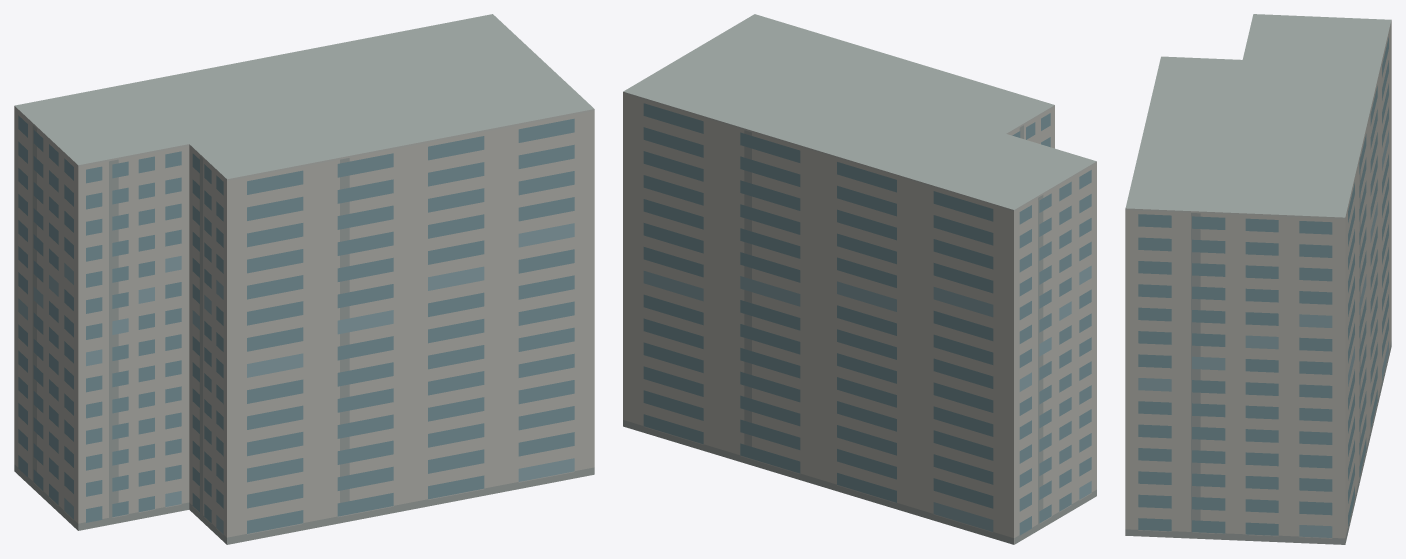
File: residential-4f8b7eb6-04c3-42ab-af9c-75f5c84cab09.glb
The picture shows the model from 3 angles, left to right: view 1: azimuth 30°, elevation 25°; view 2: azimuth 150°, elevation 25°; view 3: azimuth 270°, elevation 25°; orthographic projection. The views are drawn at different scales.
Parts seen in each view (by area): view 1: residential-4f8b7eb6-04c3-42ab-af9c-75f5c84cab09.tmp; view 2: residential-4f8b7eb6-04c3-42ab-af9c-75f5c84cab09.tmp; view 3: residential-4f8b7eb6-04c3-42ab-af9c-75f5c84cab09.tmp.
Part boxes in pixels (<box>): residential-4f8b7eb6-04c3-42ab-af9c-75f5c84cab09.tmp: <box>14,14,594,544</box>; residential-4f8b7eb6-04c3-42ab-af9c-75f5c84cab09.tmp: <box>623,14,1096,544</box>; residential-4f8b7eb6-04c3-42ab-af9c-75f5c84cab09.tmp: <box>1125,14,1391,544</box>.
Bounding box in the file's own units: 61.36 × 46 × 33.89.
